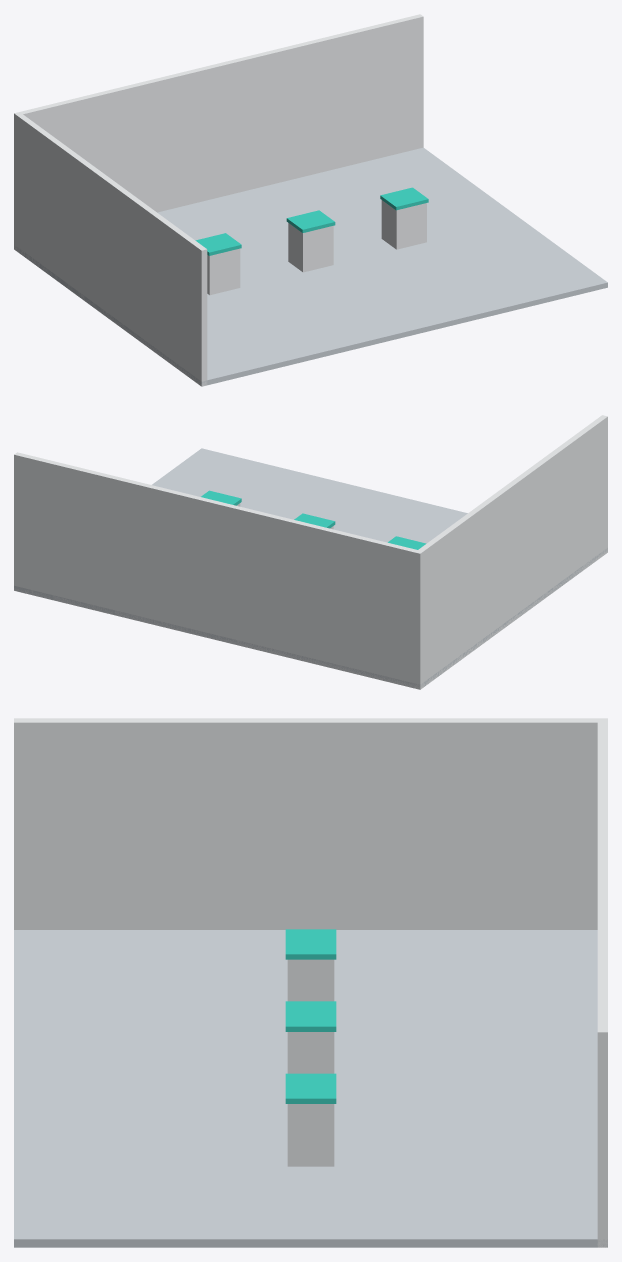
3 renders of one model, top to bottom at view 1: azimuth 30°, elevation 25°; view 2: azimuth 150°, elevation 25°; view 3: azimuth 270°, elevation 25°, orthographic. The views are drawn at different scales.
Visible parts, largest first — view 1: Exhibition Booth Concept; view 2: Exhibition Booth Concept; view 3: Exhibition Booth Concept.
Part boxes in pixels (x1=…): Exhibition Booth Concept: x1=14, y1=14, x2=607, y2=386; Exhibition Booth Concept: x1=14, y1=415, x2=607, y2=689; Exhibition Booth Concept: x1=14, y1=718, x2=607, y2=1247.
Bounding box in the file's own units: 10 × 3.2 × 8.
